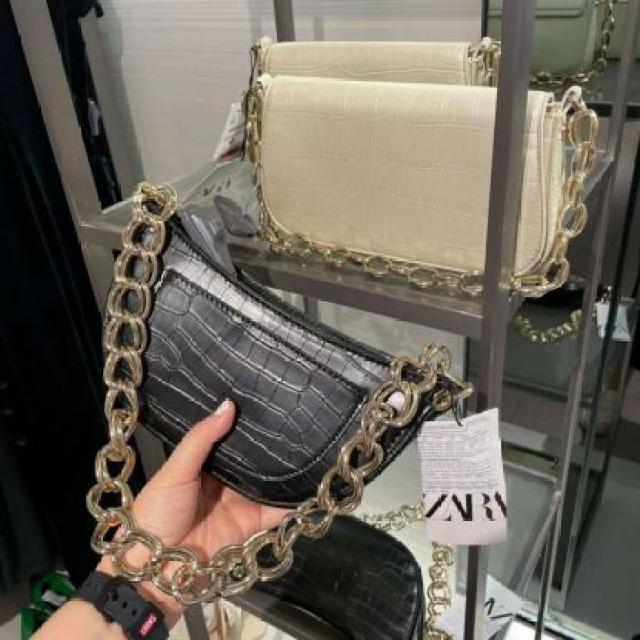Bag: (71, 170, 472, 619), (206, 18, 623, 312)
